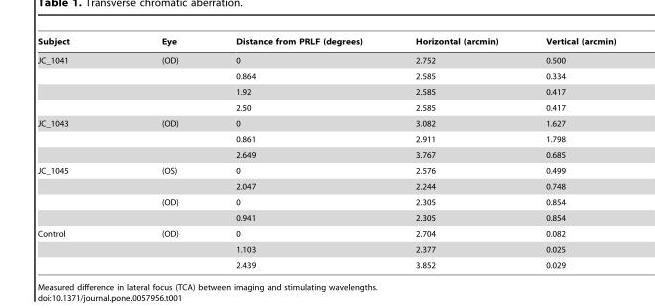table: (37, 36, 615, 269)
table column: (206, 36, 388, 269), (388, 36, 521, 269), (521, 36, 615, 269), (114, 36, 206, 269), (37, 36, 114, 269)
table column header: (37, 36, 615, 50)
table row: (37, 50, 615, 68), (37, 83, 615, 99), (37, 99, 615, 115), (37, 115, 615, 131), (37, 146, 615, 162), (37, 162, 615, 178), (37, 178, 615, 194), (37, 209, 615, 225), (37, 225, 615, 241), (37, 241, 615, 257), (37, 68, 615, 83), (37, 131, 615, 146), (37, 194, 615, 209), (37, 36, 615, 50), (37, 257, 615, 269)
table spanning cell: (37, 50, 114, 115), (37, 162, 114, 225), (37, 115, 114, 162), (37, 225, 114, 269)
